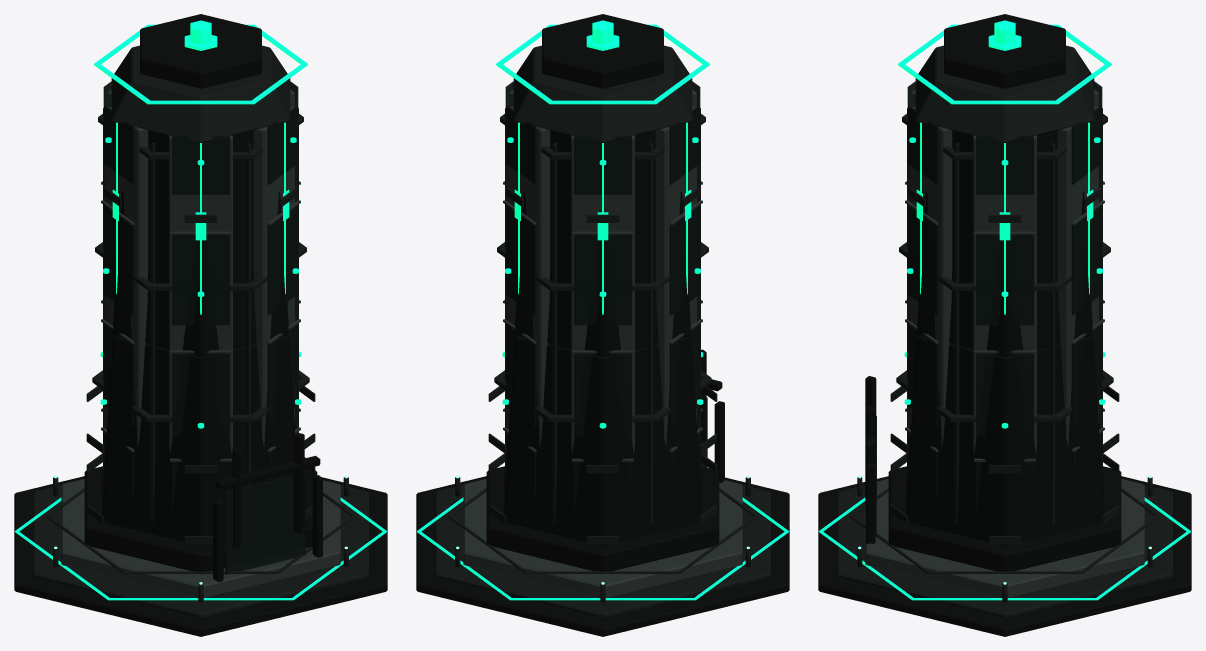
The model's file is command-center.glb.
3 views of the same model, side by side, from view 1: azimuth 30°, elevation 25°; view 2: azimuth 150°, elevation 25°; view 3: azimuth 270°, elevation 25° (orthographic).
Parts seen in each view (by area): view 1: CC_LowerBody, CC_UpperBody, CC_Foundation, CC_CrownShoulder, CC_PlazaDeck, CC_Podium, CC_CrownCap, CC_EntrySmokeGlass, CC_AtriumBase, CC_WindowBand_5_3, CC_FacadeMass_4, CC_FacadeMass_6 (+23 smaller); view 2: CC_LowerBody, CC_UpperBody, CC_Foundation, CC_CrownShoulder, CC_PlazaDeck, CC_Podium, CC_AtriumBase, CC_CrownCap, CC_WindowBand_3_3, CC_FacadeMass_2, CC_FacadeMass_4, CC_FacadeMass_3 (+19 smaller); view 3: CC_LowerBody, CC_UpperBody, CC_Foundation, CC_CrownShoulder, CC_PlazaDeck, CC_Podium, CC_AtriumBase, CC_CrownCap, CC_WindowBand_1_3, CC_FacadeMass_2, CC_FacadeMass_6, CC_FacadeMass_1 (+20 smaller).
Part boxes in pixels (left/top/right/bottom): CC_LowerBody: left=102, top=332, right=295, bottom=545; CC_UpperBody: left=113, top=130, right=288, bottom=356; CC_Foundation: left=14, top=476, right=387, bottom=636; CC_CrownShoulder: left=111, top=45, right=290, bottom=142; CC_PlazaDeck: left=33, top=485, right=368, bottom=618; CC_Podium: left=61, top=479, right=340, bottom=598; CC_CrownCap: left=140, top=14, right=261, bottom=88; CC_EntrySmokeGlass: left=225, top=473, right=305, bottom=574; CC_AtriumBase: left=84, top=466, right=317, bottom=571; CC_WindowBand_5_3: left=172, top=235, right=229, bottom=325; CC_FacadeMass_4: left=107, top=106, right=148, bottom=446; CC_FacadeMass_6: left=253, top=106, right=294, bottom=446; CC_LowerBody: left=504, top=332, right=701, bottom=545; CC_UpperBody: left=515, top=130, right=690, bottom=356; CC_Foundation: left=416, top=476, right=789, bottom=636; CC_CrownShoulder: left=513, top=45, right=692, bottom=142; CC_PlazaDeck: left=435, top=485, right=770, bottom=618; CC_Podium: left=463, top=479, right=742, bottom=598; CC_AtriumBase: left=486, top=466, right=719, bottom=571; CC_CrownCap: left=542, top=14, right=663, bottom=88; CC_WindowBand_3_3: left=574, top=235, right=631, bottom=325; CC_FacadeMass_2: left=509, top=106, right=550, bottom=446; CC_FacadeMass_4: left=655, top=106, right=696, bottom=446; CC_FacadeMass_3: left=571, top=135, right=634, bottom=453; CC_LowerBody: left=906, top=332, right=1103, bottom=545; CC_UpperBody: left=917, top=130, right=1092, bottom=356; CC_Foundation: left=818, top=476, right=1191, bottom=636; CC_CrownShoulder: left=915, top=45, right=1094, bottom=142; CC_PlazaDeck: left=837, top=485, right=1172, bottom=618; CC_Podium: left=865, top=479, right=1144, bottom=598; CC_AtriumBase: left=888, top=466, right=1121, bottom=571; CC_CrownCap: left=944, top=14, right=1065, bottom=88; CC_WindowBand_1_3: left=976, top=235, right=1033, bottom=325; CC_FacadeMass_2: left=1057, top=106, right=1098, bottom=446; CC_FacadeMass_6: left=911, top=106, right=952, bottom=446; CC_FacadeMass_1: left=973, top=135, right=1036, bottom=453.
Bounding box in the file's own units: 53.78 × 72 × 46.77.
